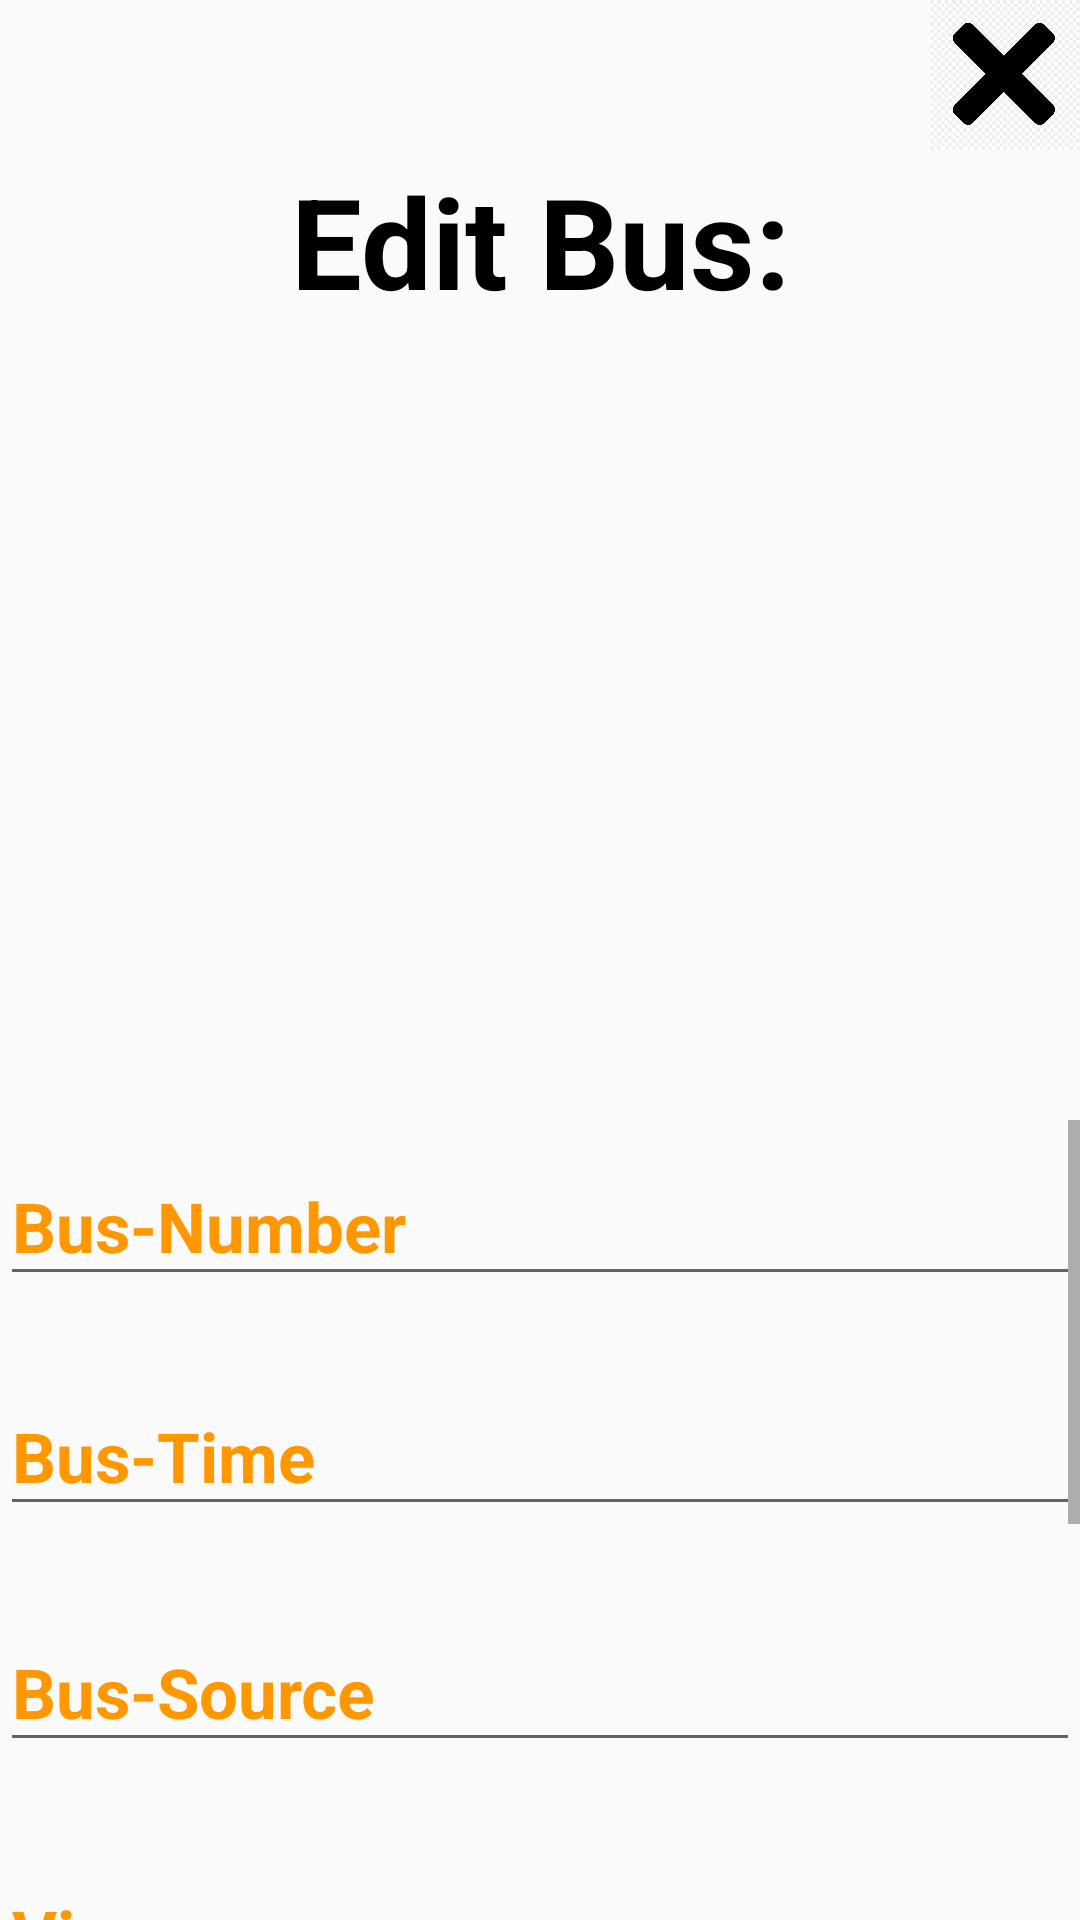

Icons on this 1080px×1920px Android screen, each with its box as (x1=x1, y1=y1, x2=x2, y2=y2):
close window: (x1=953, y1=23, x2=1055, y2=125)
